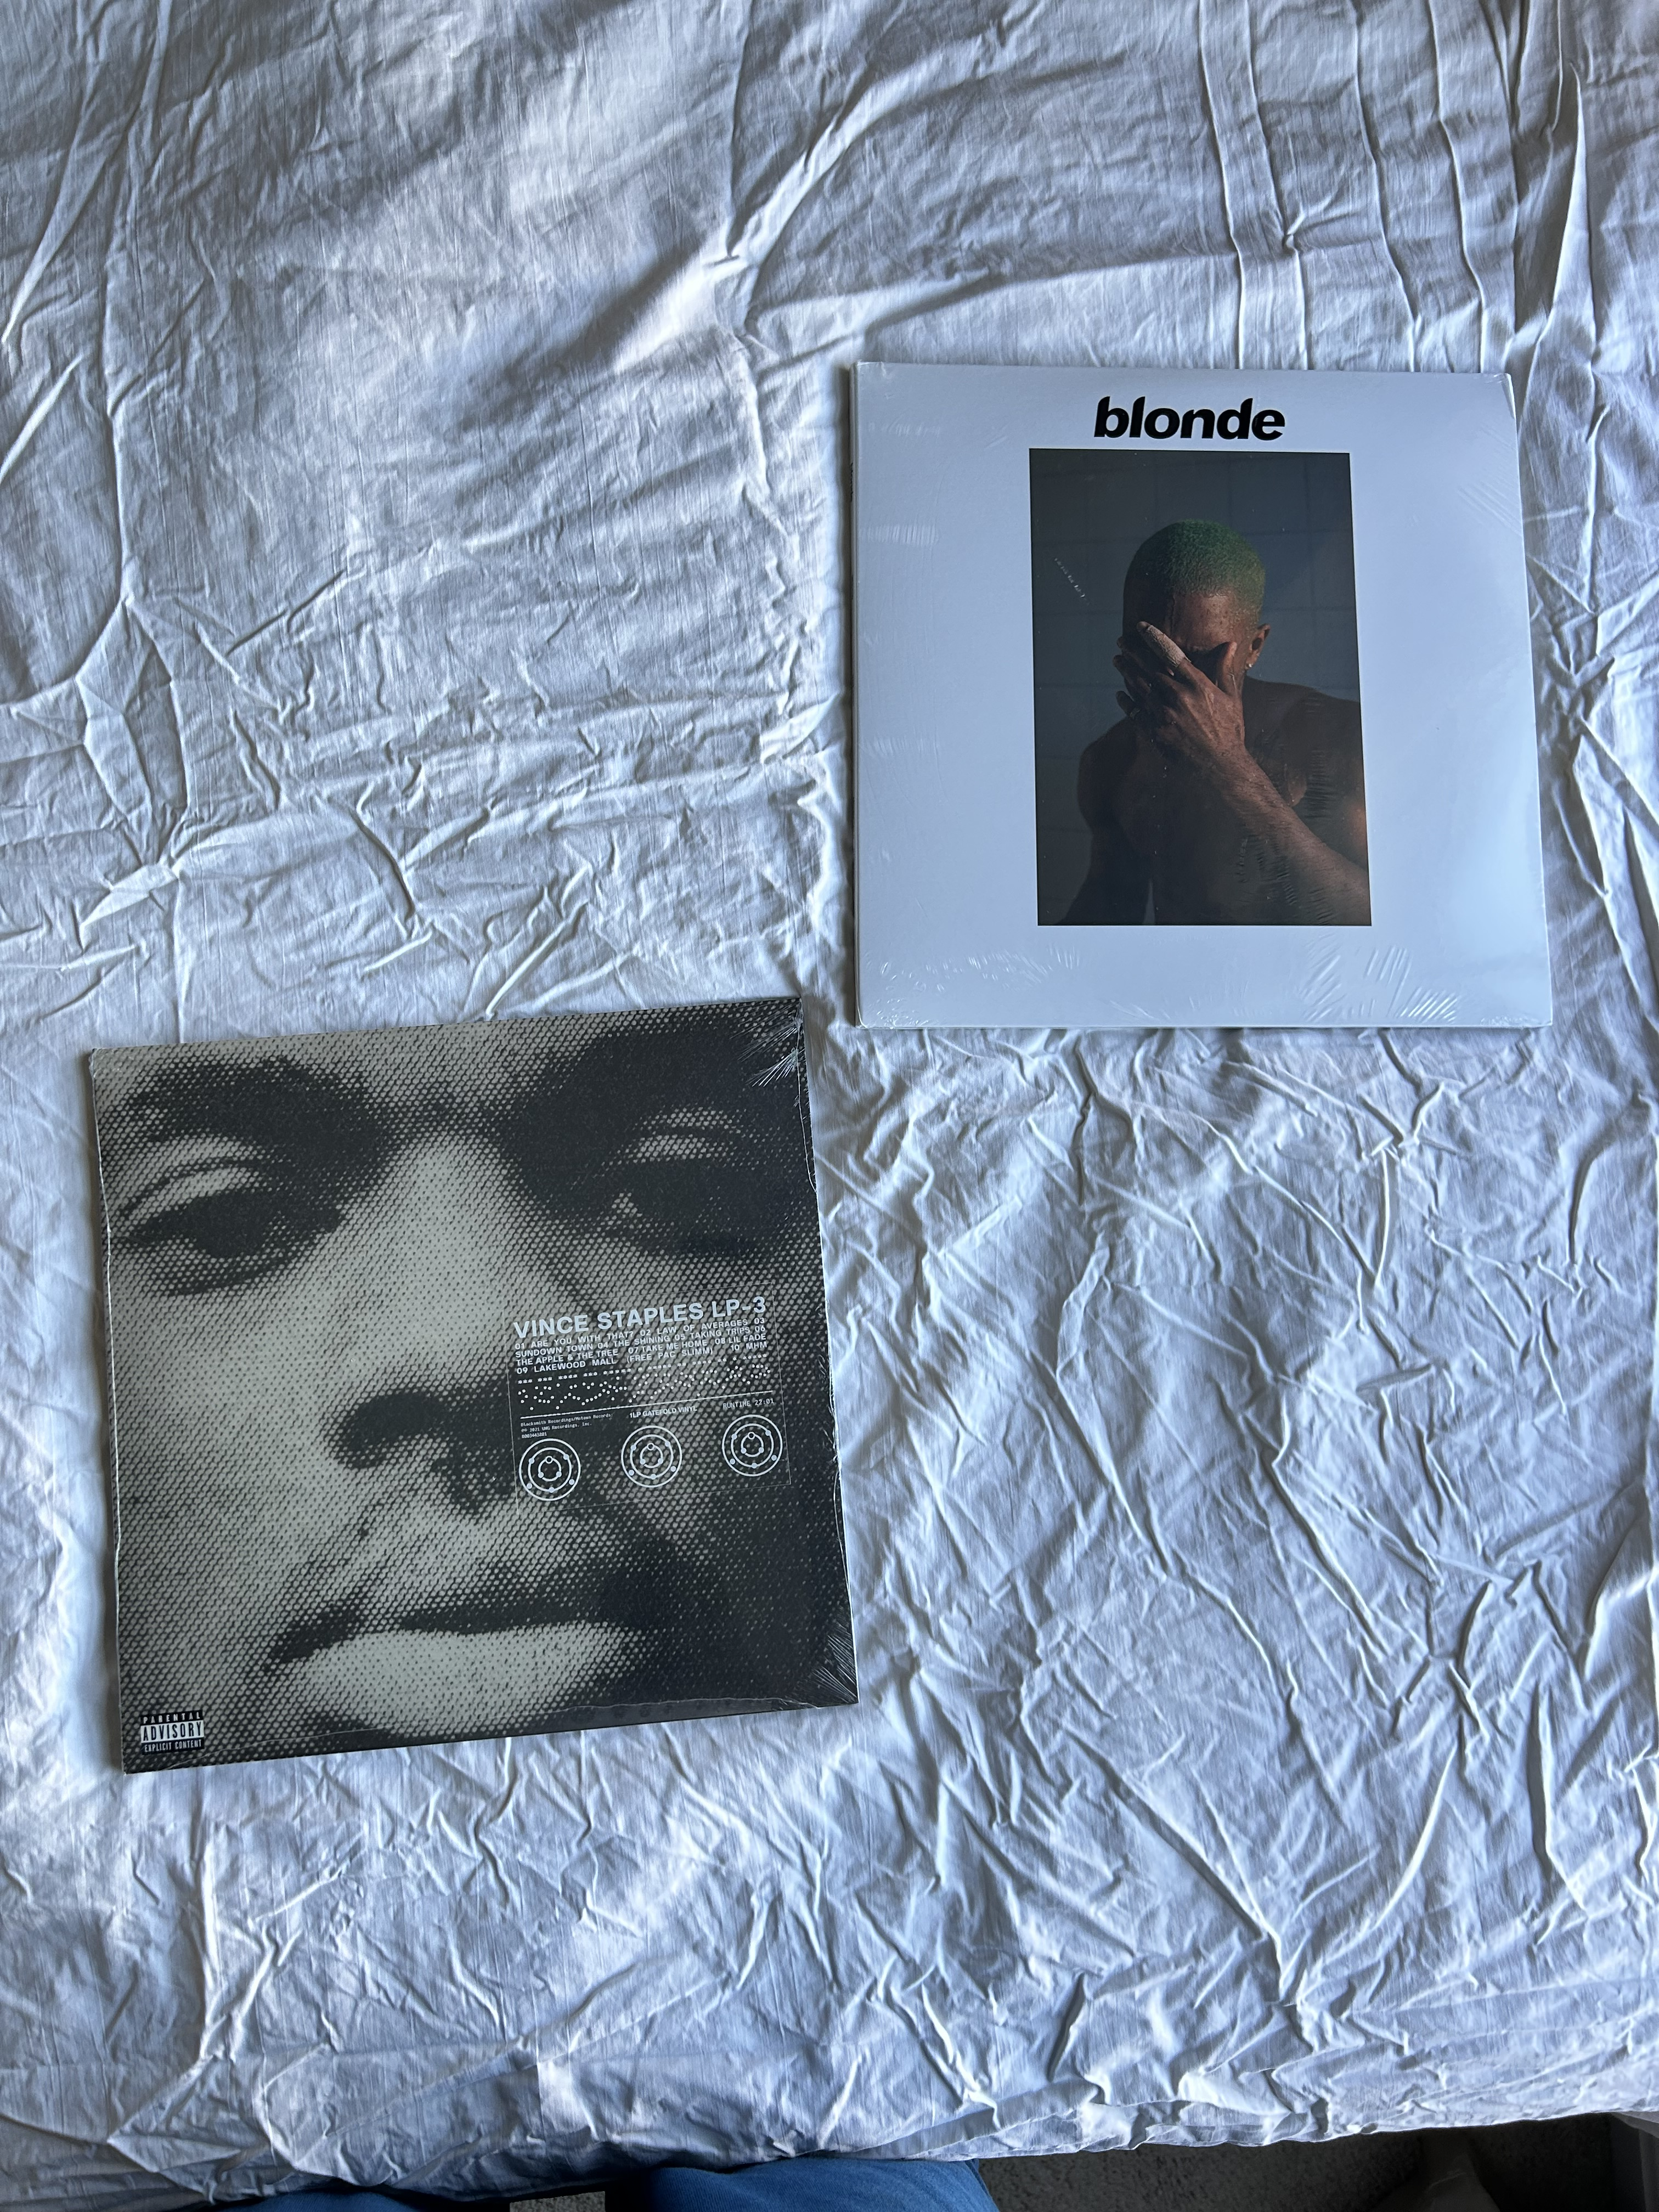frank ocean_blonde: (850, 357, 1554, 1024)
vince staples_vince staples: (59, 1054, 812, 1757)
